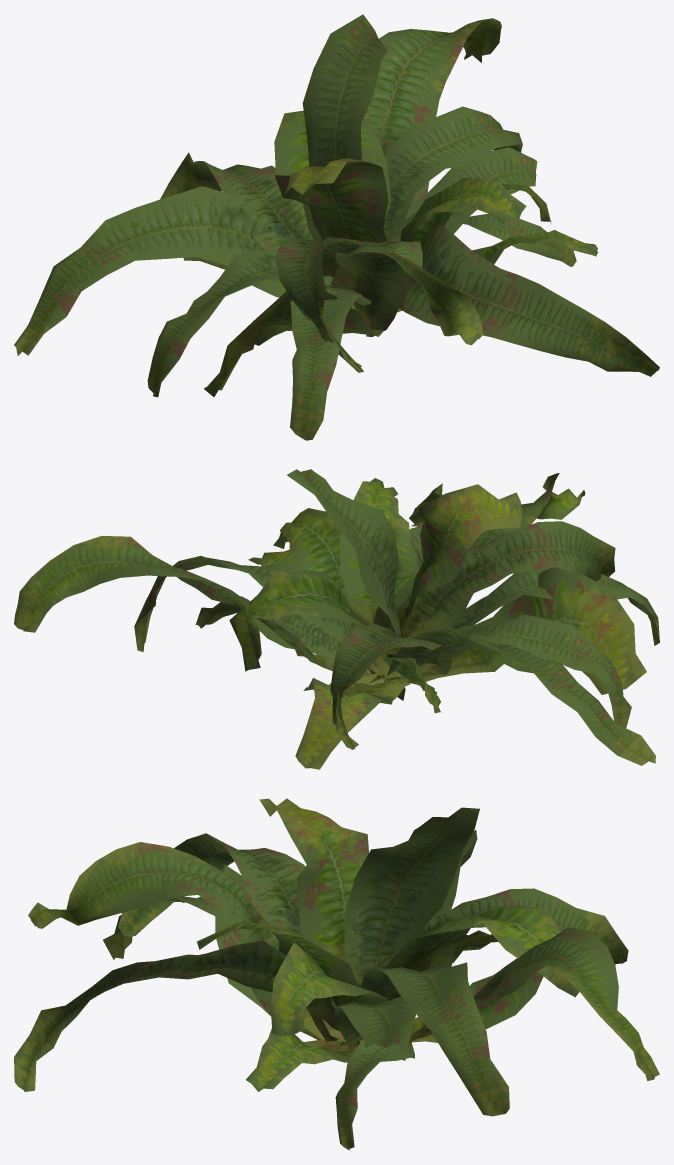
File: fern.glb
3 views of the same model, one above another, from view 1: azimuth 30°, elevation 25°; view 2: azimuth 150°, elevation 25°; view 3: azimuth 270°, elevation 25° (orthographic). The views are drawn at different scales.
Parts seen in each view (by area): view 1: fern_02_b; view 2: fern_02_b; view 3: fern_02_b.
Boxes of the visible parts, <box> form: fern_02_b: <box>14,14,659,440</box>; fern_02_b: <box>14,469,659,769</box>; fern_02_b: <box>14,798,659,1150</box>.
Bounding box in the file's own units: 0.9897 × 0.4277 × 0.8937.
1 material, 1 textured.
